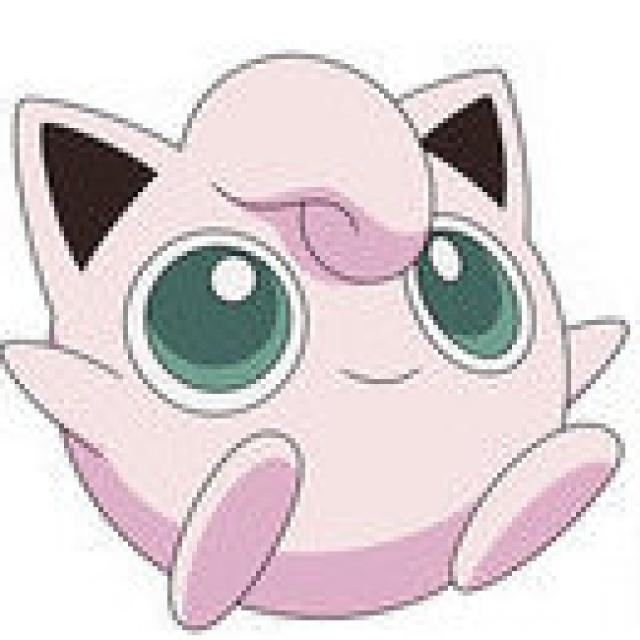Jigglypuff: (0, 44, 626, 616)
